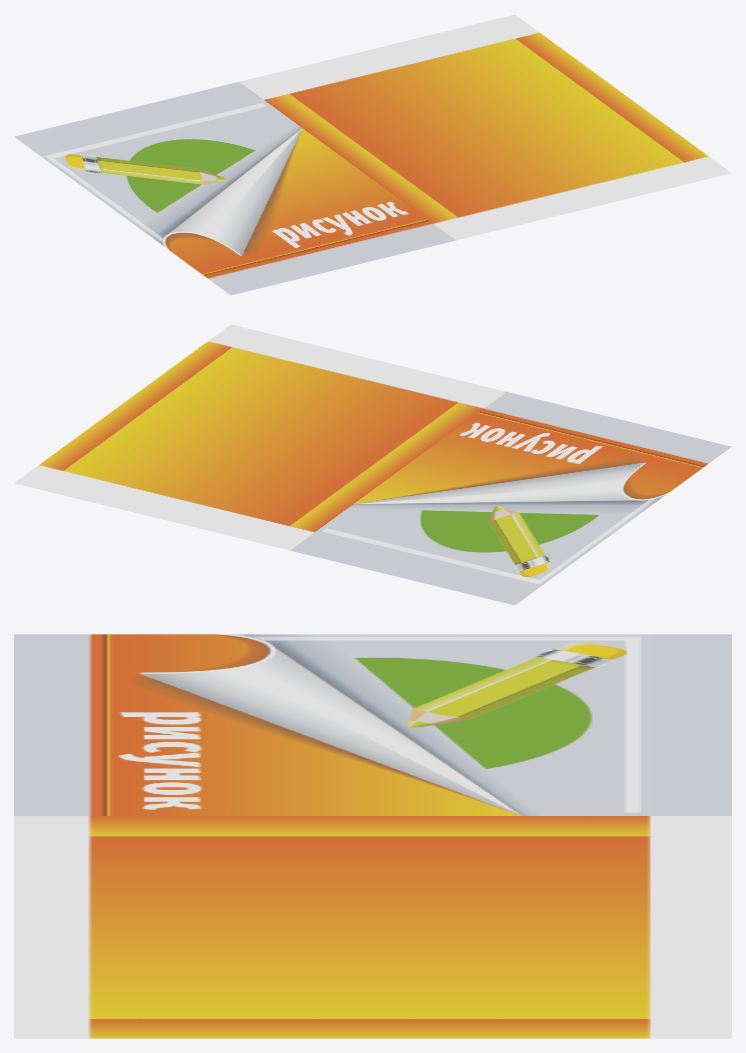
File: plane_picture.fbx
The picture shows the model from 3 angles, top to bottom: view 1: azimuth 30°, elevation 25°; view 2: azimuth 150°, elevation 25°; view 3: azimuth 270°, elevation 25°; orthographic projection. The views are drawn at different scales.
Visible parts, largest first — view 1: grid; view 2: grid; view 3: grid.
Part boxes in pixels (left/top/right/bottom): grid: left=14, top=14, right=731, bottom=295; grid: left=14, top=324, right=731, bottom=605; grid: left=14, top=634, right=731, bottom=1038.
Size of the model in its own units: 8 by 0 by 6.
1 material, 1 textured.
